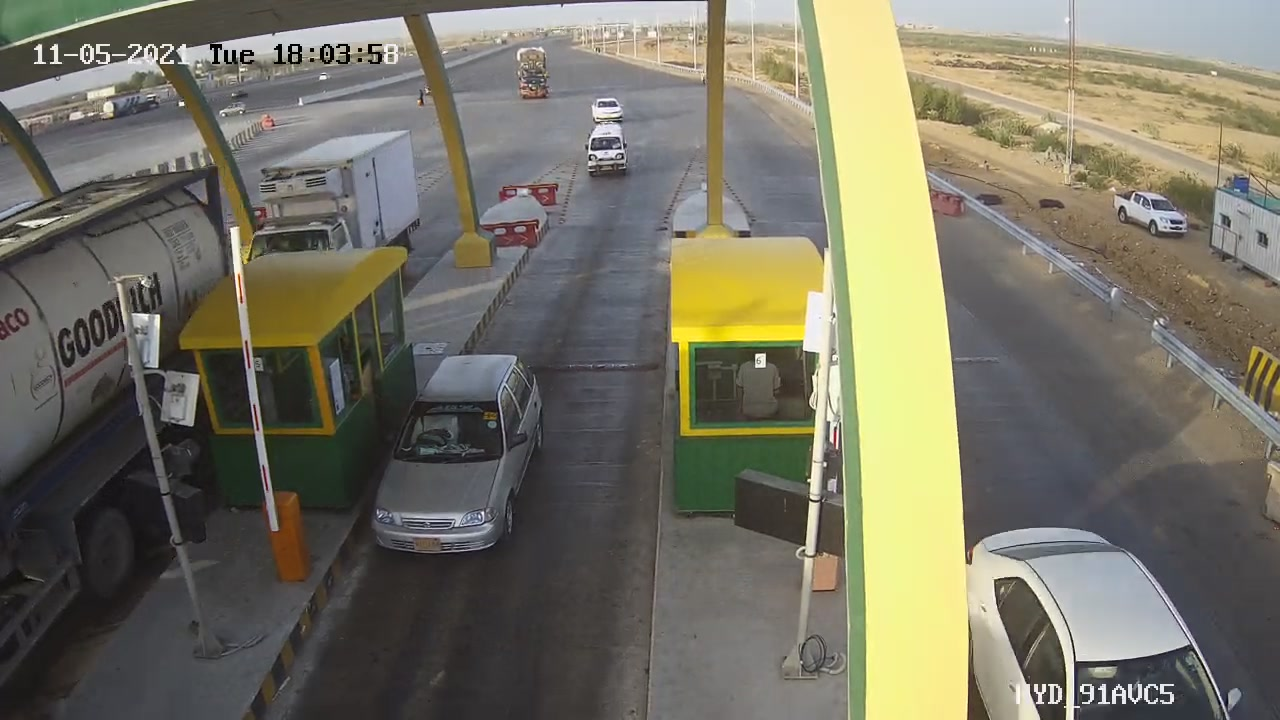F1: (337, 330, 582, 582)
